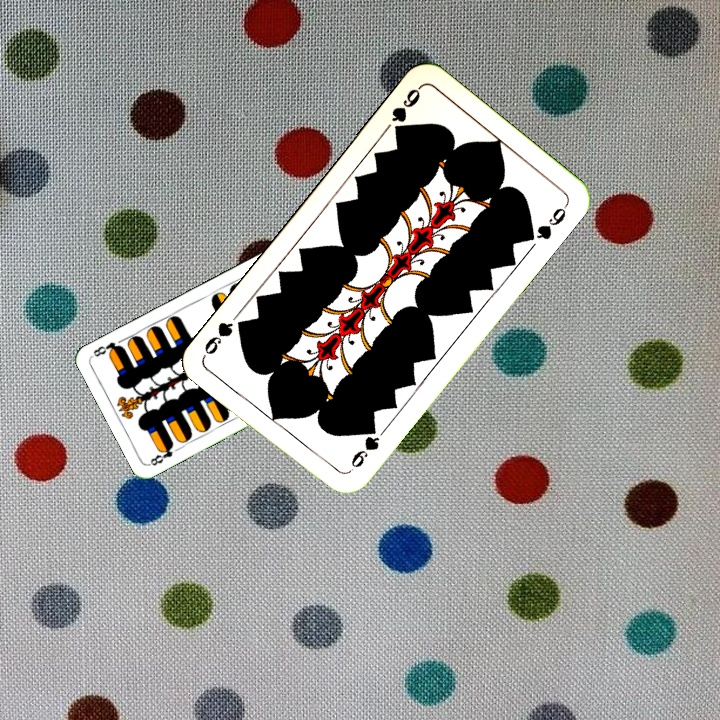E8: (146, 439, 176, 468)
G9: (345, 421, 388, 475), (387, 82, 424, 138)
